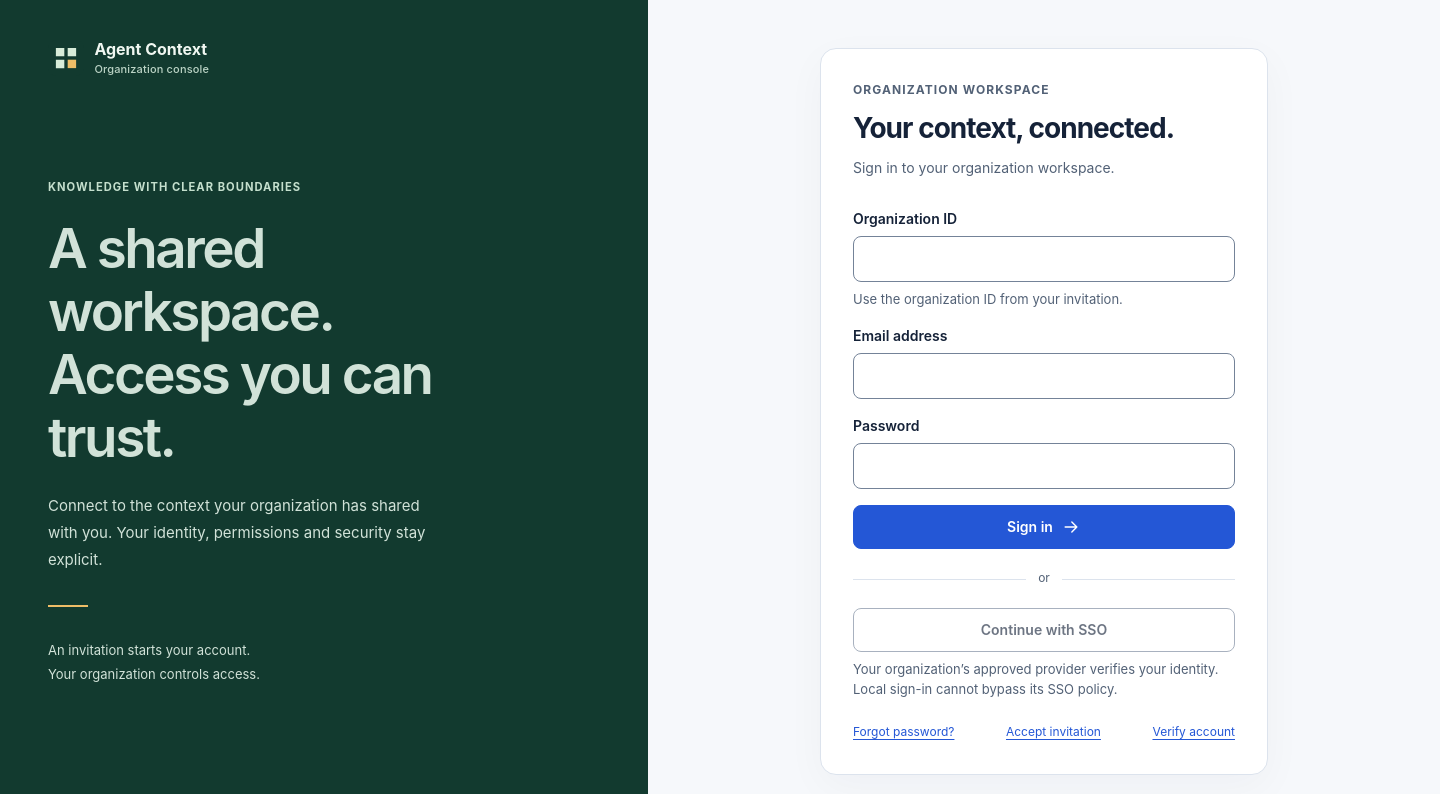
Scenario: session-only authentication › completes password and MFA through real client boundaries without token storage
Type "org-a" into the field labelled "Organization ID" at (1044, 259), box 853,236 -> 1235,282
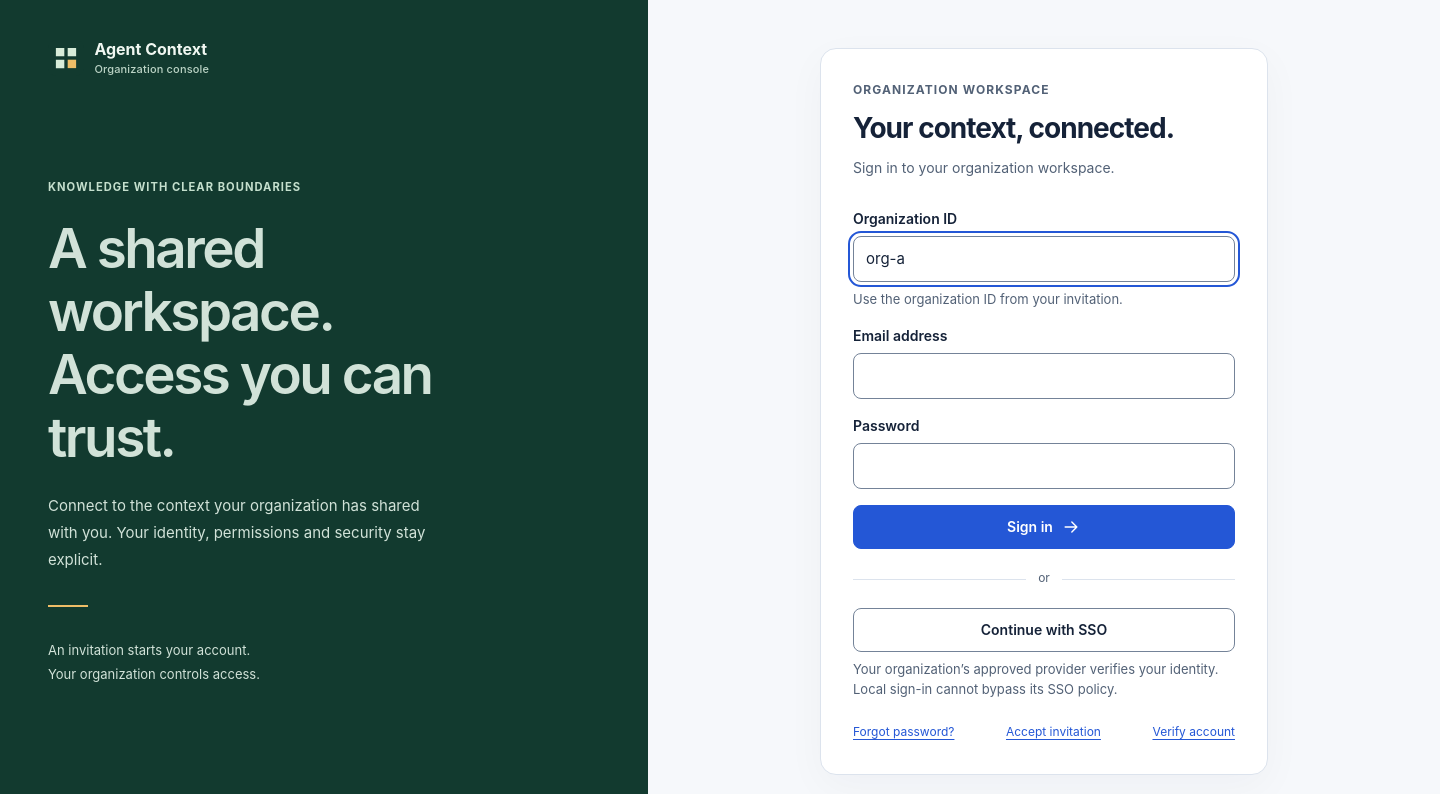
Type "alice@example.test" into the field labelled "Email address" at (1044, 376), box 853,353 -> 1235,399
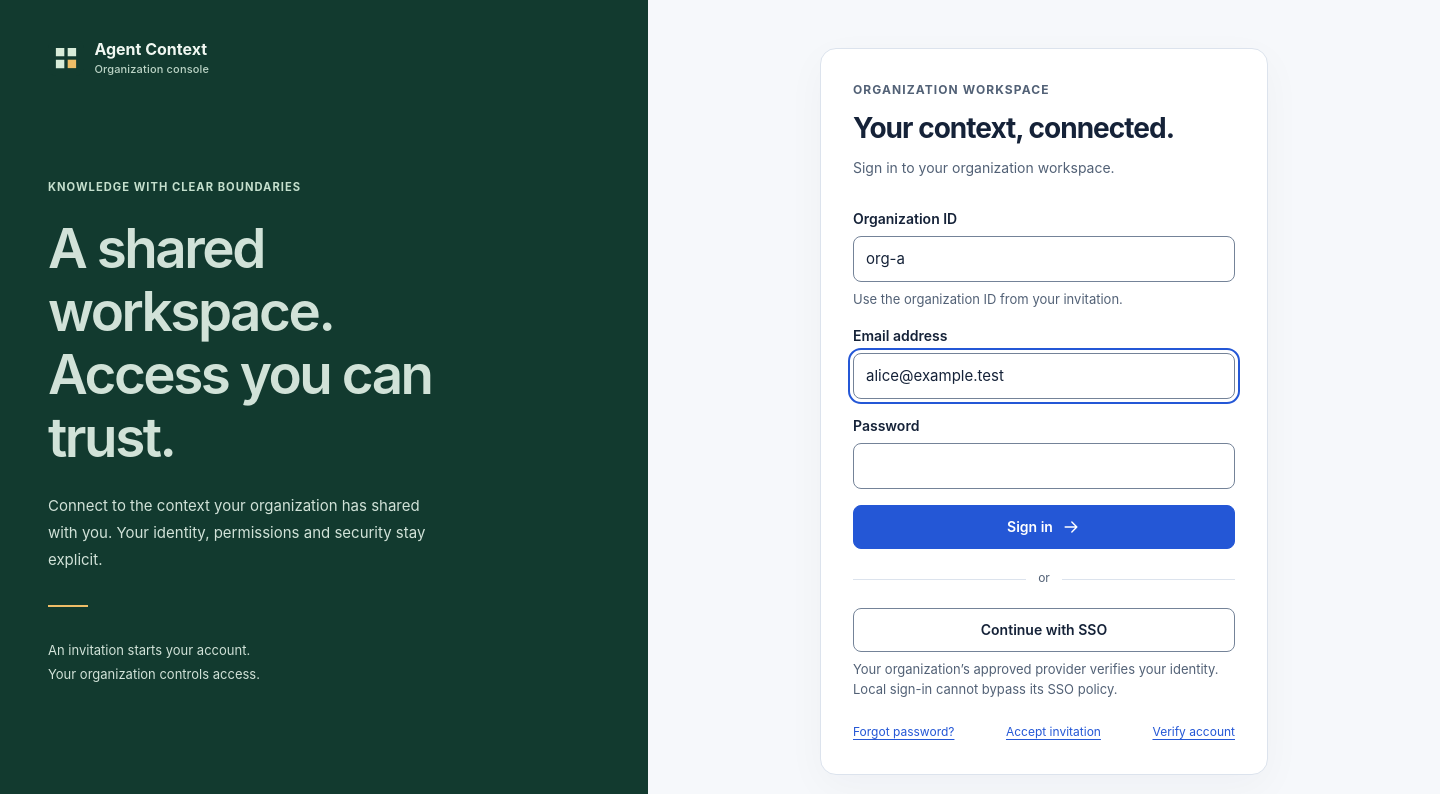
Type "synthetic-password" into the password field labelled "Password" at (1044, 466), box 853,443 -> 1235,489
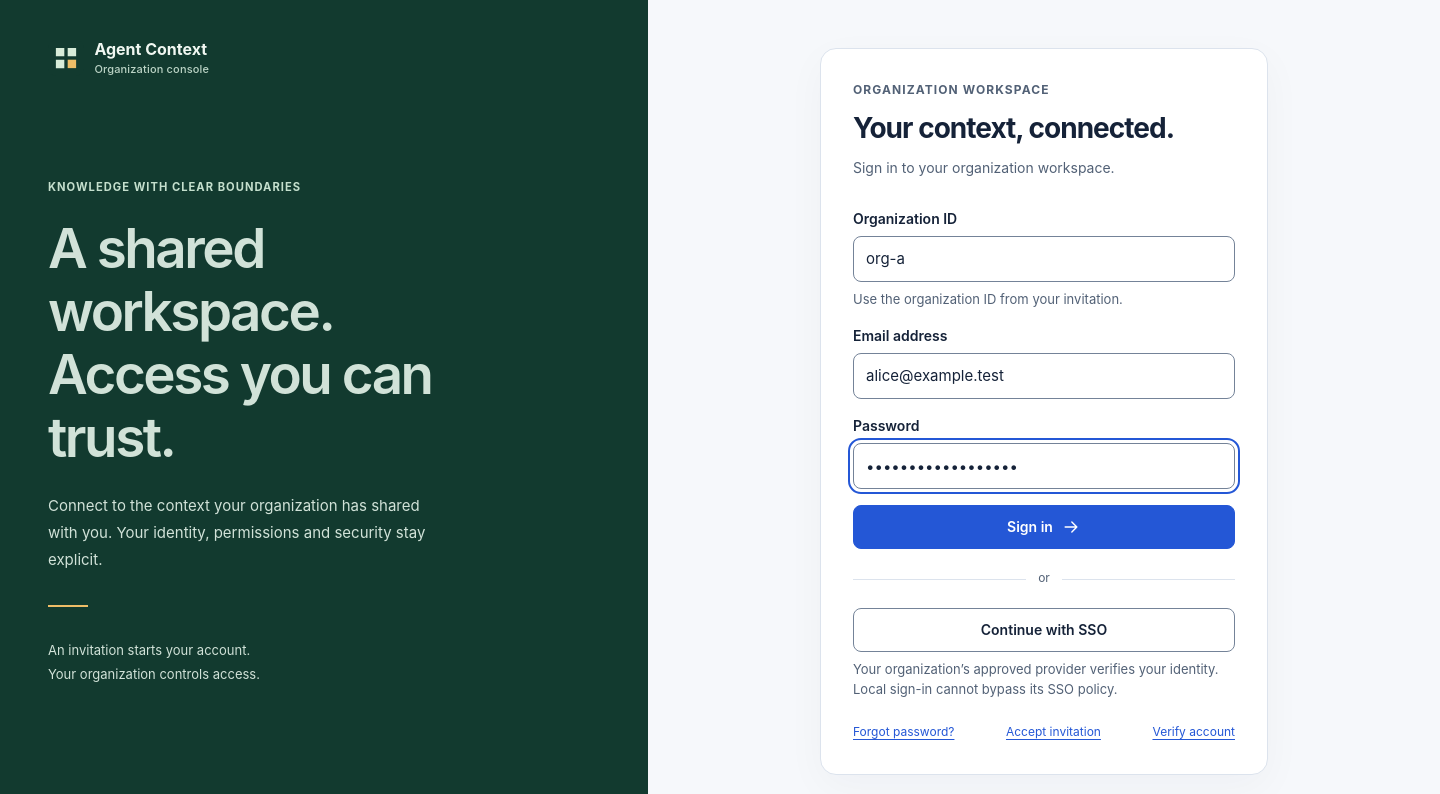
Click the button "Sign in" at (1044, 527), box 853,505 -> 1235,549
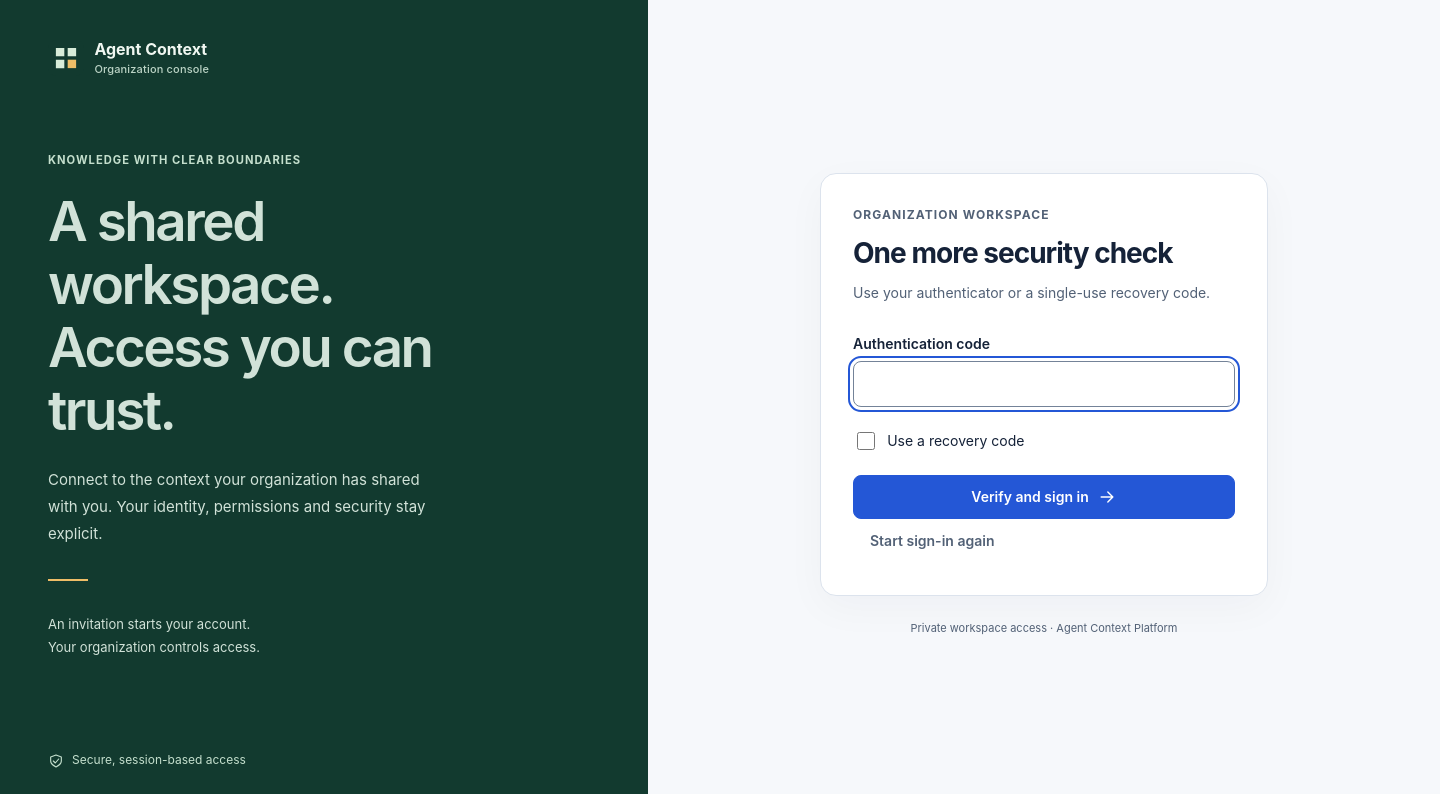
Check: the heading "One more security check" is shown, box 853,236 -> 1173,270
Check: the label labelled "Password" is gone
Type "123456" into the field labelled "Authentication code" at (1044, 384), box 853,361 -> 1235,407
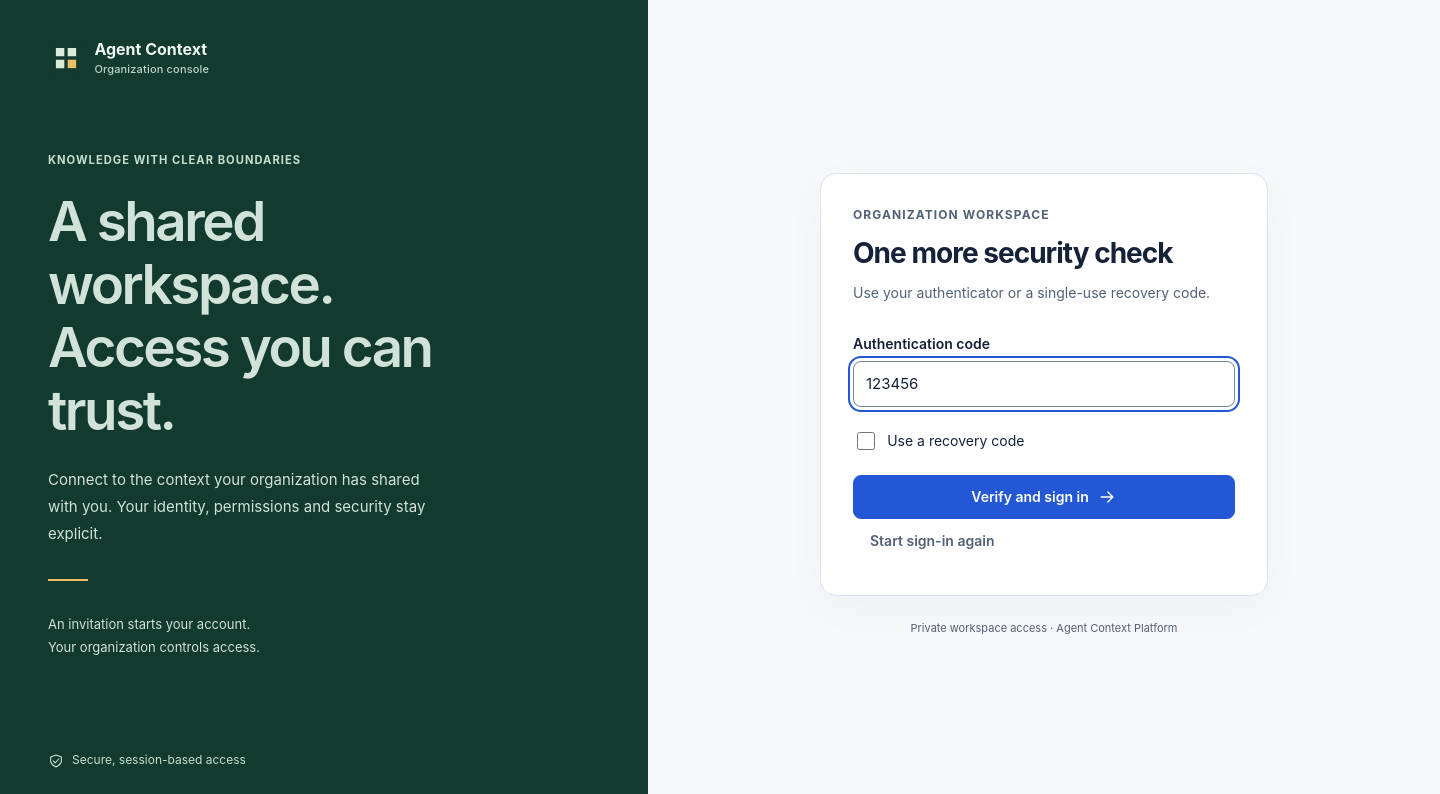
Click the button "Verify and sign in" at (1044, 497), box 853,475 -> 1235,519
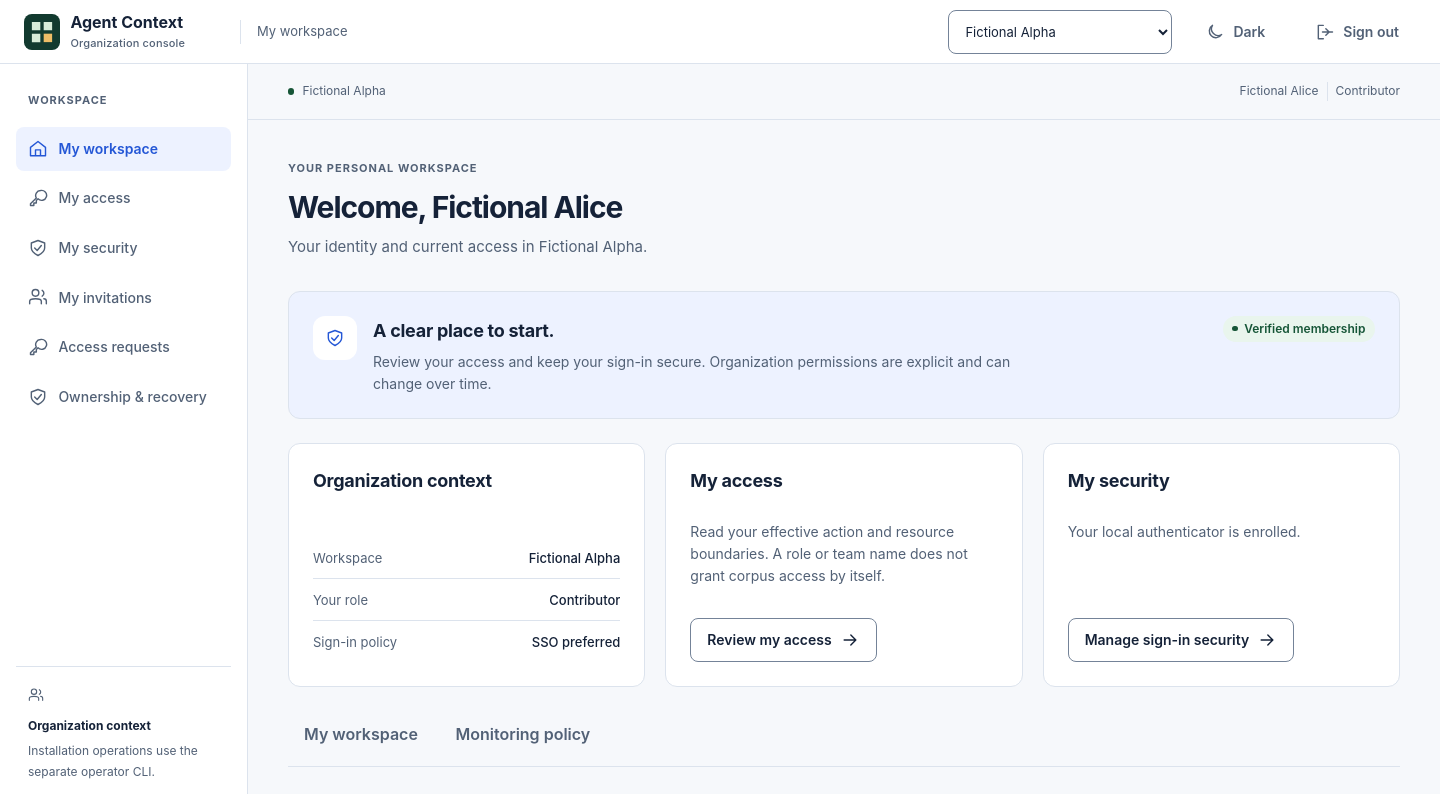
Check: the heading "Welcome, Fictional Alice" is shown, box 288,189 -> 622,225
